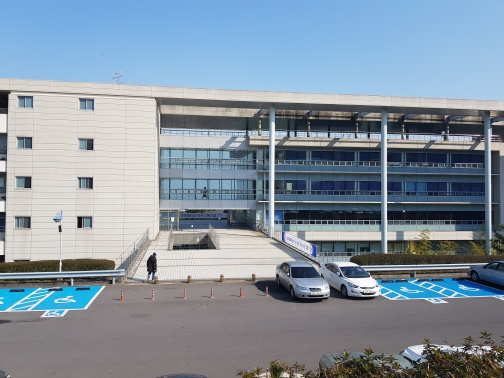Engineering College Building 4: (2, 80, 496, 257), (157, 92, 492, 245), (13, 87, 149, 246)
